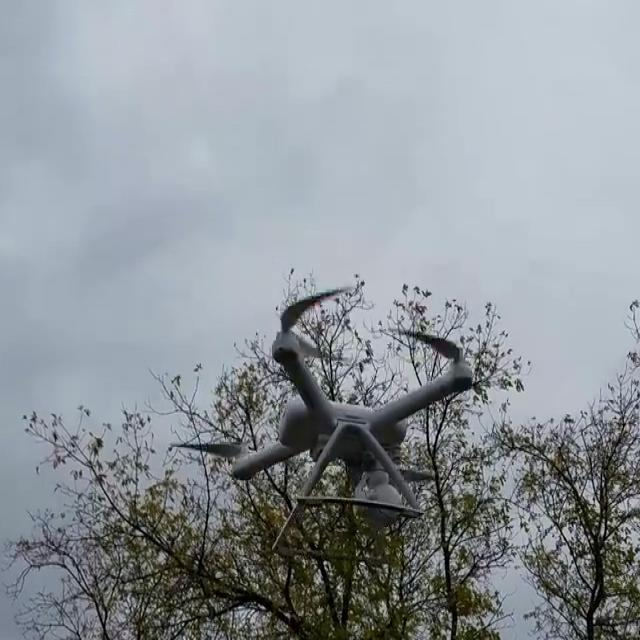drone: (180, 298, 501, 540)
